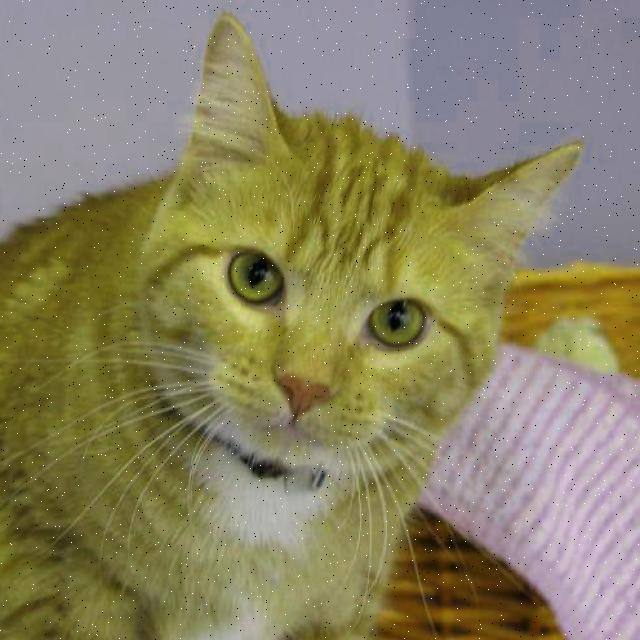Cat: (92, 31, 587, 510)
